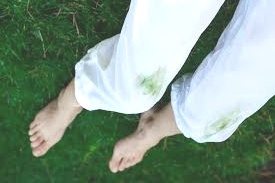earth: (141, 77, 159, 95), (212, 118, 229, 133)
